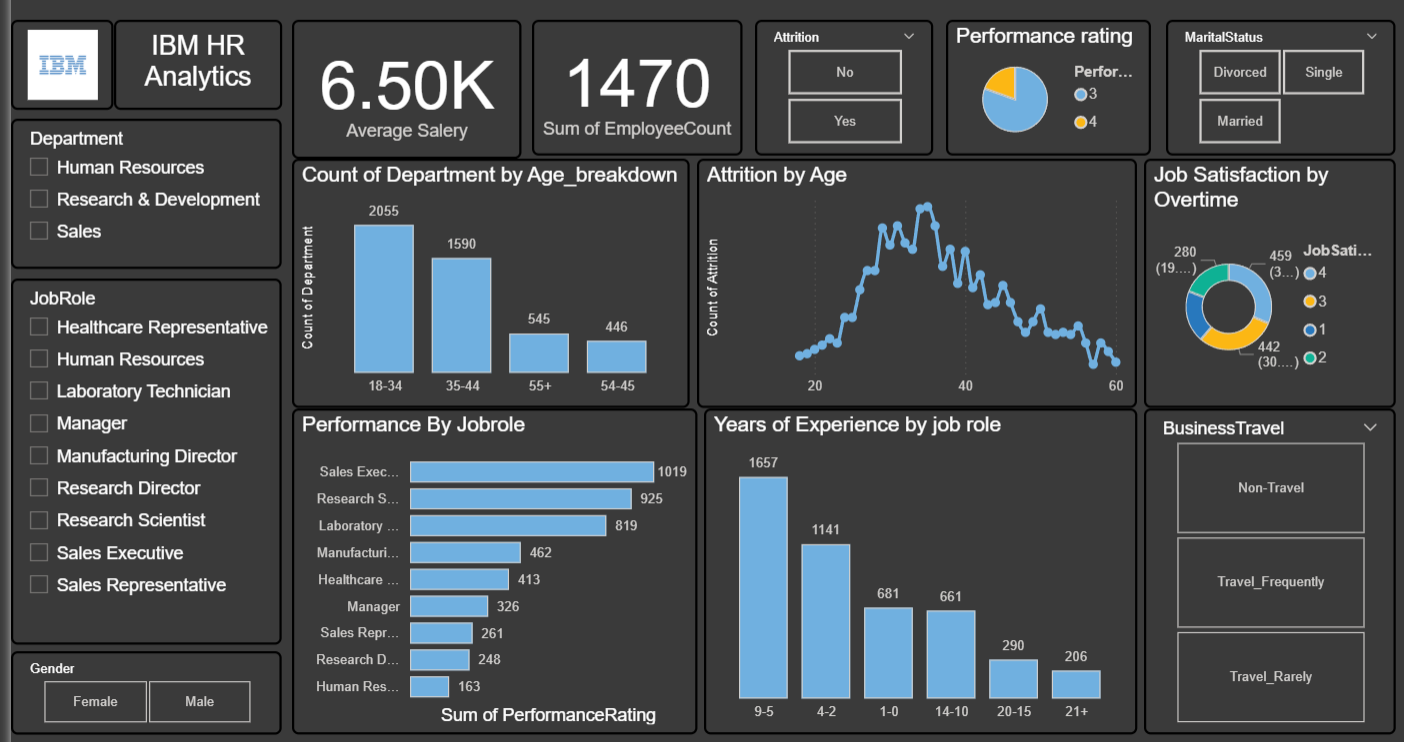

What the dashboard file says about the page in this screenshot:
{"tool":"powerbi","page":{"name":"Page 1","canvas":[1280,720],"ordinal":0},"visuals":[{"type":"slicer","fields":{"Values":["IBM data.Gender"]},"box":[0,600.6,243.3,74.5],"z":0},{"type":"slicer","fields":{"Values":["IBM data.Department"]},"box":[0,122.1,243.3,134.7],"z":1000},{"type":"slicer","fields":{"Values":["IBM data.JobRole"]},"box":[0,265.7,243.3,329.5],"z":2000},{"type":"card","fields":{"Values":["IBM data.Average Salery"]},"box":[252.3,33.2,206.5,124.8],"z":3000},{"type":"card","fields":{"Values":["Sum(IBM data.EmployeeCount)"]},"box":[467.7,33.2,188.5,122.1],"z":4000},{"type":"lineChart","title":" Attrition by Age","fields":{"Category":["IBM data.Age"],"Y":["CountNonNull(IBM data.Attrition)"]},"box":[615.9,158,395,224.4],"z":5000},{"type":"columnChart","fields":{"Category":["IBM data.Age_breakdown"],"Y":["CountNonNull(IBM data.Department)"]},"box":[252.3,158,357.3,224.4],"z":6000},{"type":"barChart","title":"Performance By Jobrole","fields":{"Category":["IBM data.JobRole"],"Y":["Sum(IBM data.PerformanceRating)"]},"box":[252.3,382.4,363.6,292.7],"z":7000},{"type":"pieChart","title":"Performance rating","fields":{"Y":["Sum(IBM data.PerformanceRating)"],"Category":["IBM data.PerformanceRating"]},"box":[839.4,33.2,184,122.1],"z":8000},{"type":"columnChart","title":" Years of Experience by job role","fields":{"Category":["IBM data.Year in company"],"Y":["CountNonNull(IBM data.JobRole)"]},"box":[622.1,382.4,388.7,292.7],"z":9000},{"type":"donutChart","title":"Job Satisfaction by Overtime","fields":{"Category":["IBM data.JobSatisfaction"],"Y":["CountNonNull(IBM data.OverTime)"]},"box":[1017.2,158,226.2,224.4],"z":10000},{"type":"slicer","fields":{"Values":["IBM data.Attrition"]},"box":[667.9,33.2,159.8,122.1],"z":11000},{"type":"textbox","box":[92.5,33.2,150.8,80.8],"z":12000},{"type":"image","box":[0,33.2,92.5,80.8],"z":13000},{"type":"slicer","fields":{"Values":["IBM data.BusinessTravel"]},"box":[1017.2,382.4,226.2,292.7],"z":14000},{"type":"slicer","fields":{"Values":["IBM data.MaritalStatus"]},"box":[1036.9,33.2,206.5,122.1],"z":15000}]}

Visuals, with their boxes on the page's 1280x720 design canvas (x1, y1, x2, y2). These are canvas units, not pixel positions in the 1404x742 screenshot, which may show the page scaled, cropped or inside an application window:
slicer - IBM data.Gender: (0,601,243,675)
slicer - IBM data.Department: (0,122,243,257)
slicer - IBM data.JobRole: (0,266,243,595)
card - IBM data.Average Salery: (252,33,459,158)
card - Sum(IBM data.EmployeeCount): (468,33,656,155)
" Attrition by Age" lineChart: (616,158,1011,382)
columnChart - IBM data.Age_breakdown x CountNonNull(IBM data.Department): (252,158,610,382)
"Performance By Jobrole" barChart: (252,382,616,675)
"Performance rating" pieChart: (839,33,1023,155)
" Years of Experience by job role" columnChart: (622,382,1011,675)
"Job Satisfaction by Overtime" donutChart: (1017,158,1243,382)
slicer - IBM data.Attrition: (668,33,828,155)
textbox: (92,33,243,114)
image: (0,33,92,114)
slicer - IBM data.BusinessTravel: (1017,382,1243,675)
slicer - IBM data.MaritalStatus: (1037,33,1243,155)
